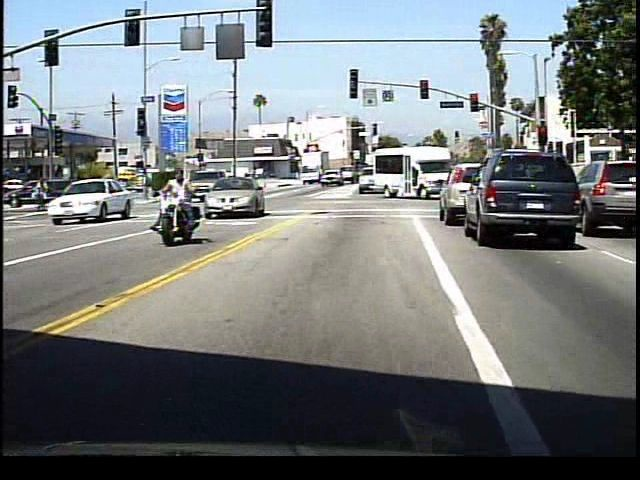person: (161, 166, 208, 244)
